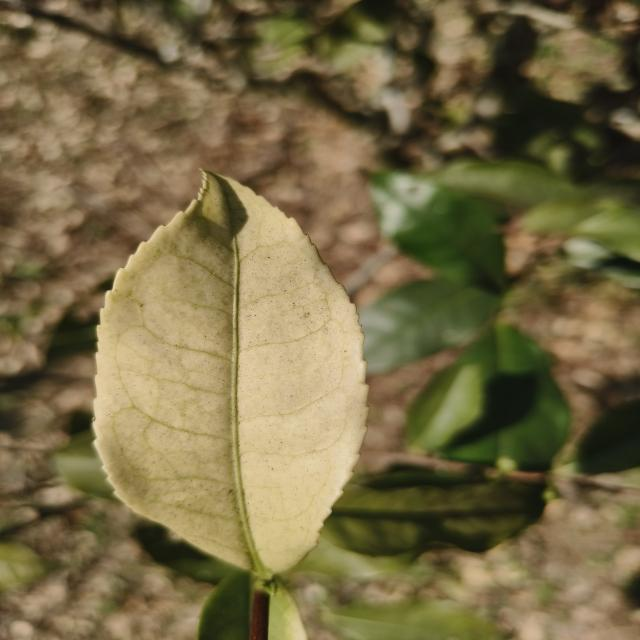Leaf: (94, 173, 367, 578), (321, 468, 544, 558), (442, 323, 571, 470), (370, 172, 507, 293), (360, 280, 499, 374), (196, 571, 307, 640), (432, 160, 579, 208), (326, 600, 501, 640), (406, 363, 483, 451), (572, 399, 640, 474), (572, 205, 640, 261)
